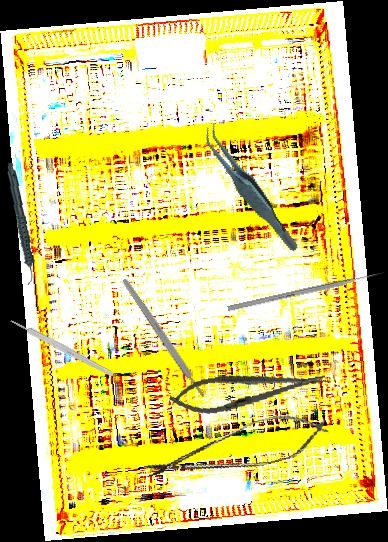Handpiece: (1, 162, 40, 286)
Micro Scissor: (139, 403, 334, 496)
Needle Holder: (168, 361, 328, 420)
Pusher: (227, 270, 385, 312)
Scalpel Handle: (120, 277, 207, 399), (9, 317, 115, 378)
Tissue Forceps: (200, 112, 300, 266)
